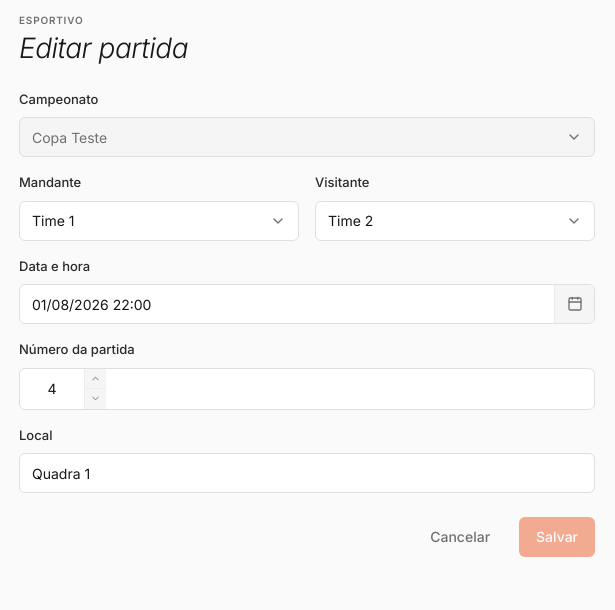
Test: MatchFormPage edit › disables the participants after the API reports an existing scoresheet
Expected: the field labelled "Local" holds "Quadra 1", 19,453 -> 595,493
Click the button named "mandante". click: click(53, 221)
box: 19,201 -> 299,241
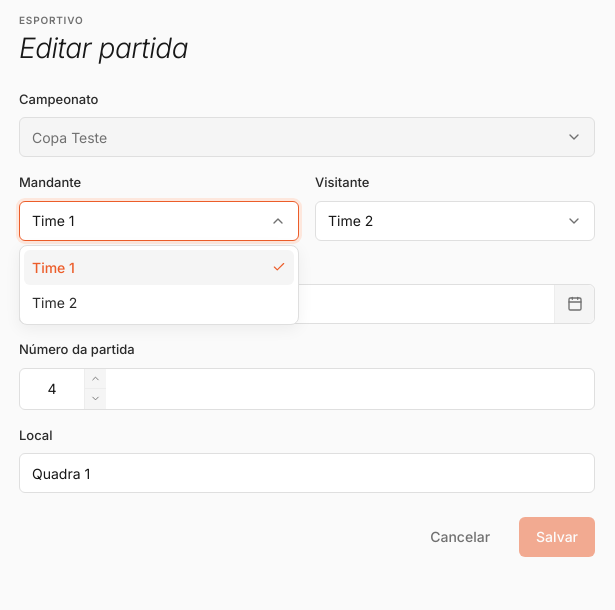
Click the option "Time 2". click: click(55, 302)
box: 32,294 -> 77,311
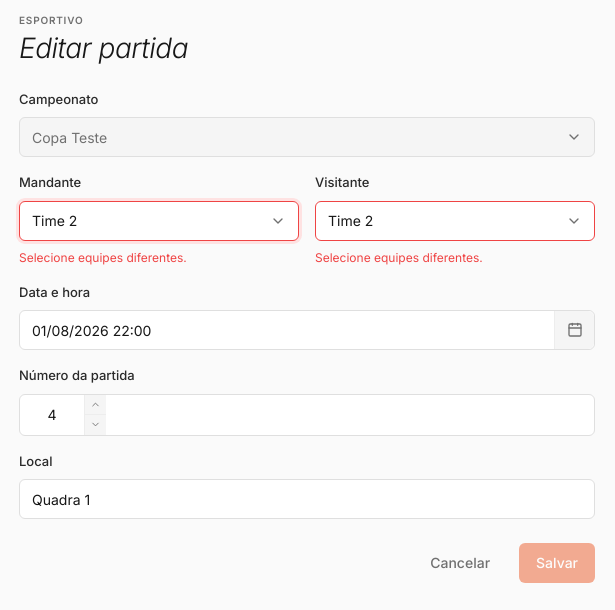
Click the button named "visitante". click: click(351, 221)
box: 315,201 -> 595,241
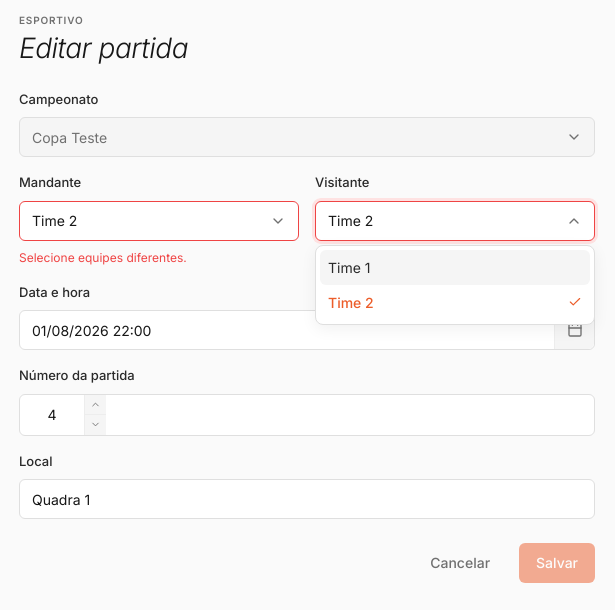
Click the option "Time 1". click: click(349, 267)
box: 320,250 -> 590,285
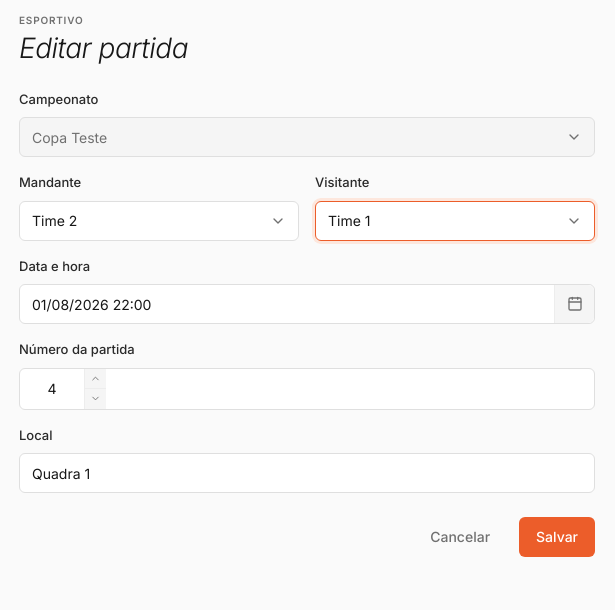
Click the button "Salvar". click: click(557, 537)
box: 519,517 -> 595,557
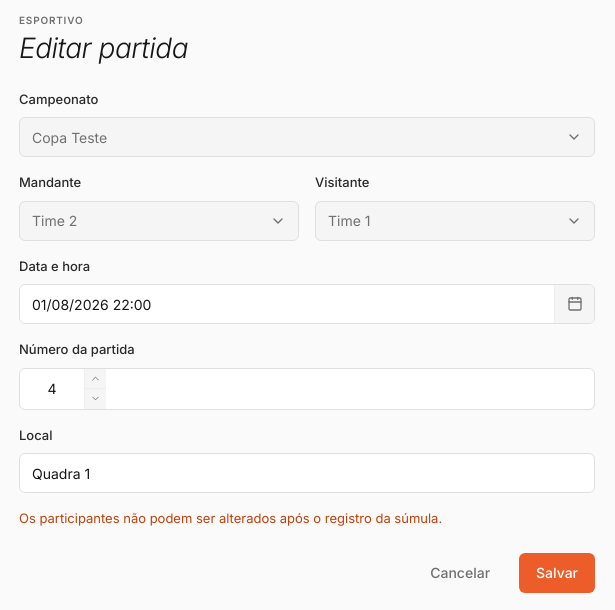
Now the text "Os participantes não podem ser alterados após o registro da súmula." is shown, box 19,510 -> 442,526
Now the button named "mandante" is disabled, box 19,201 -> 299,241
